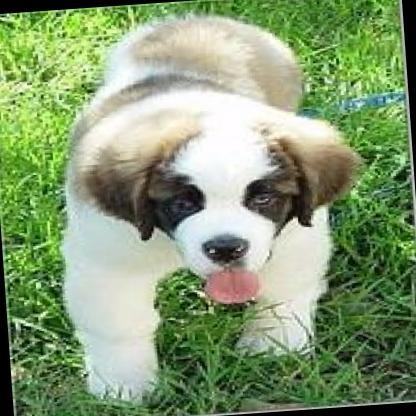Saint_Bernard: (41, 3, 377, 404)
